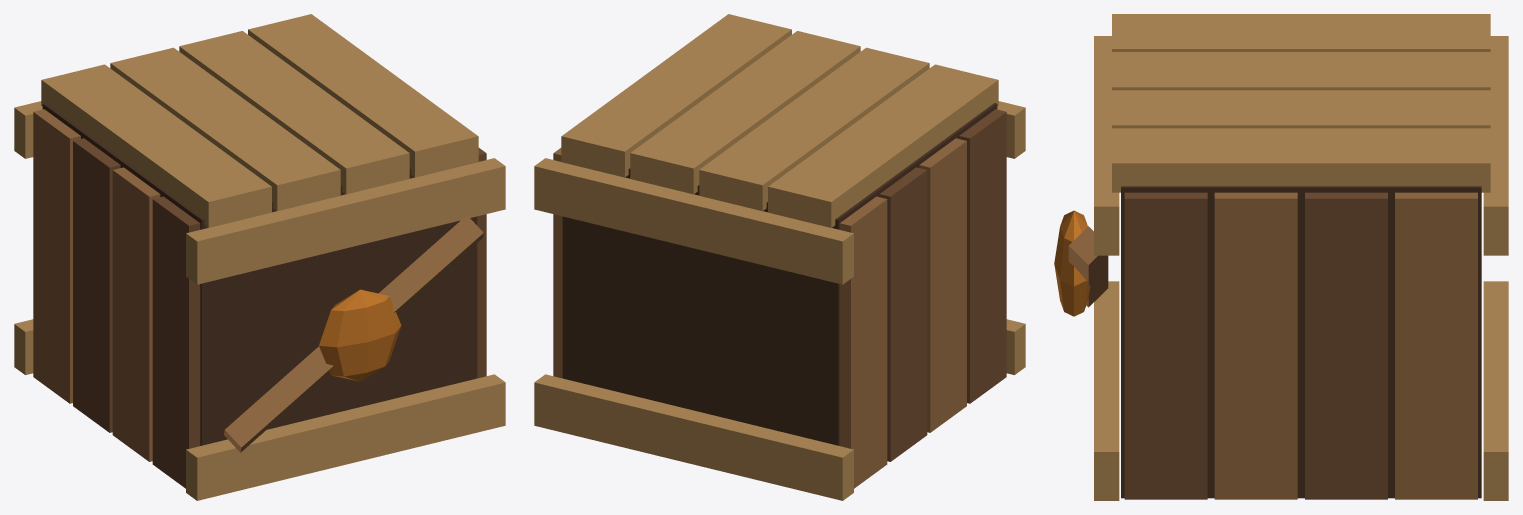
Rendered from supply-crate.glb.
3 views of the same model, side by side, from view 1: azimuth 30°, elevation 25°; view 2: azimuth 150°, elevation 25°; view 3: azimuth 270°, elevation 25° (orthographic). The views are drawn at different scales.
Parts seen in each view (by area): view 1: supply-crate; view 2: supply-crate; view 3: supply-crate.
Boxes of the visible parts, x1,y1,x2,y2 form: supply-crate: (14,14,505,500); supply-crate: (534,14,1025,500); supply-crate: (1054,14,1508,500).
Size of the model in its own units: 1.12 by 1.02 by 1.26.
